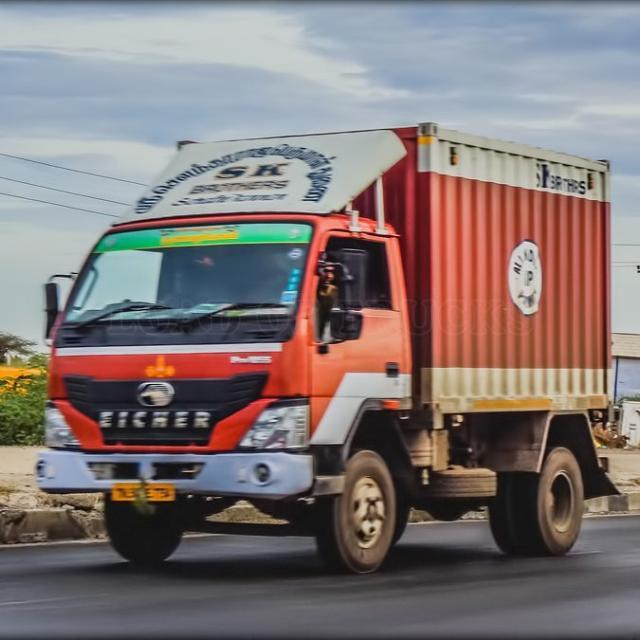Truck: (32, 120, 624, 580)
